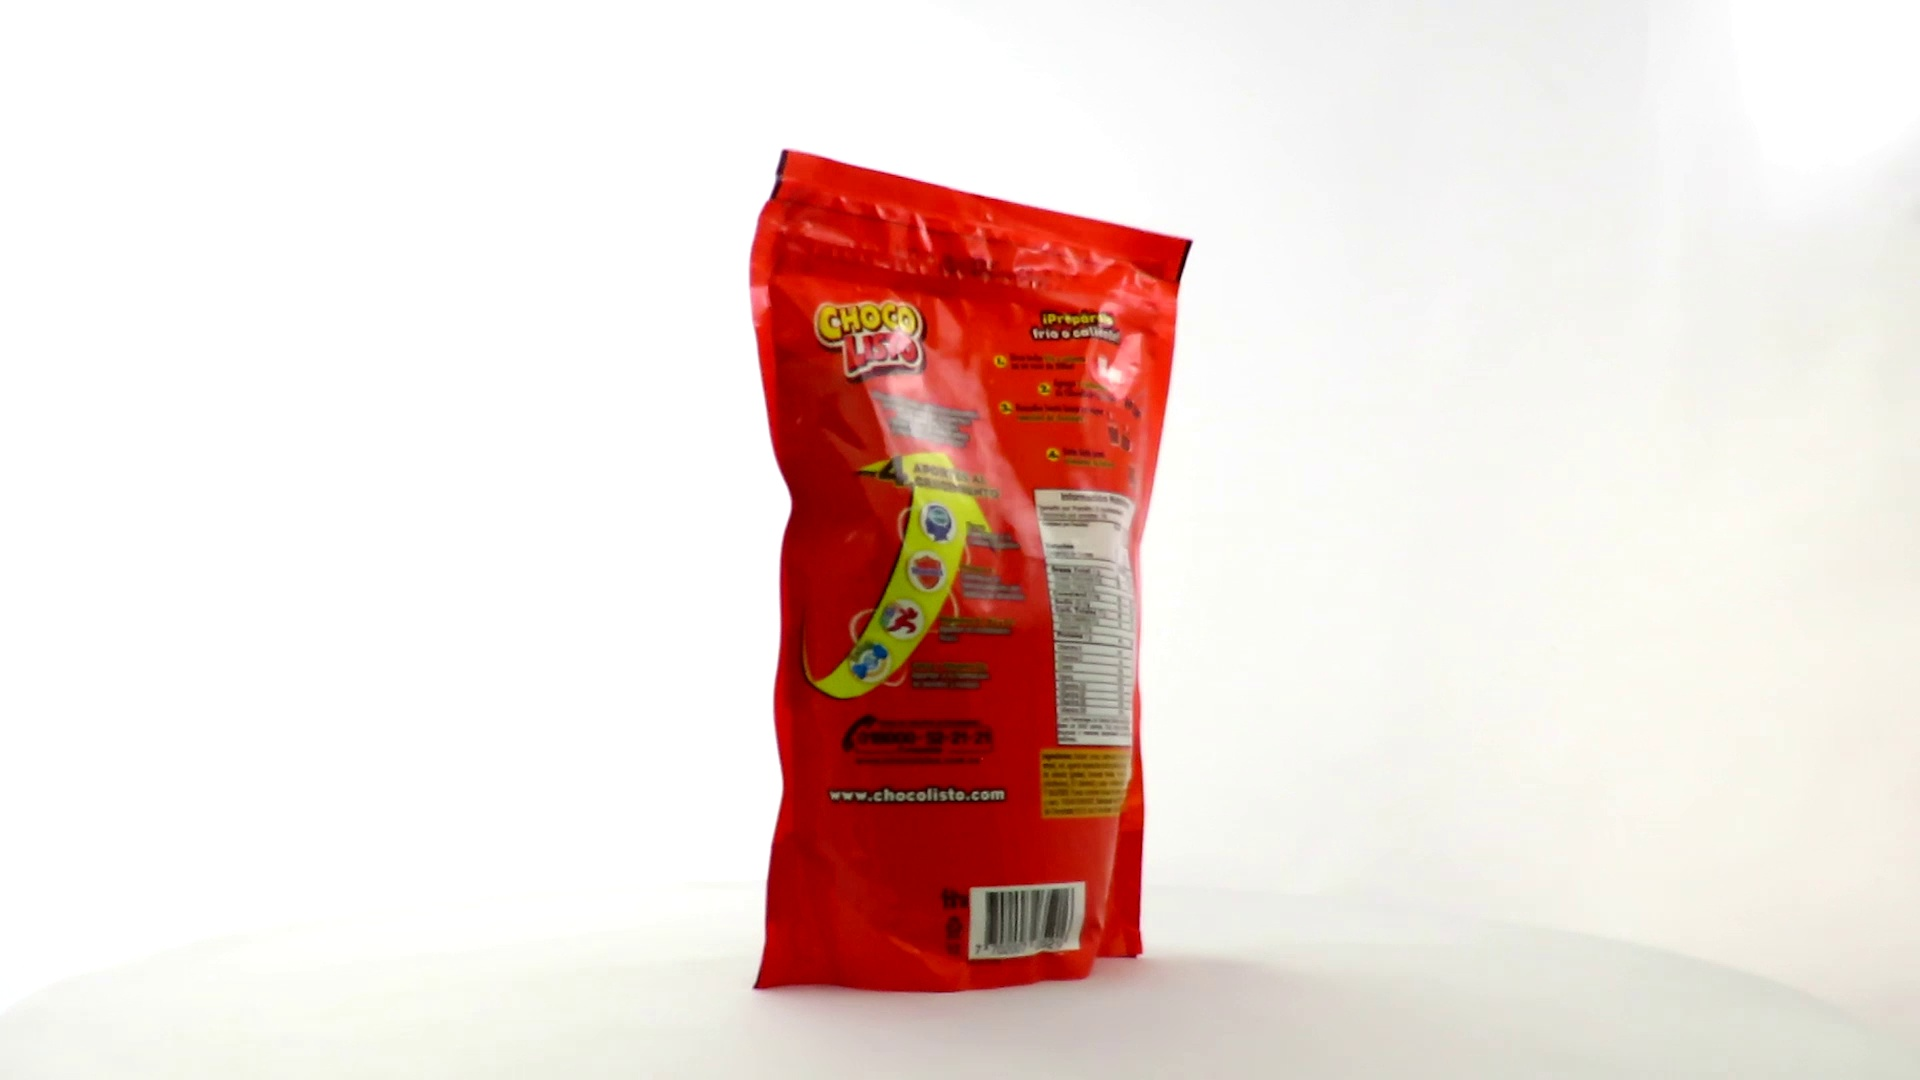COL0170103DYP36000: (744, 144, 1199, 1000)
